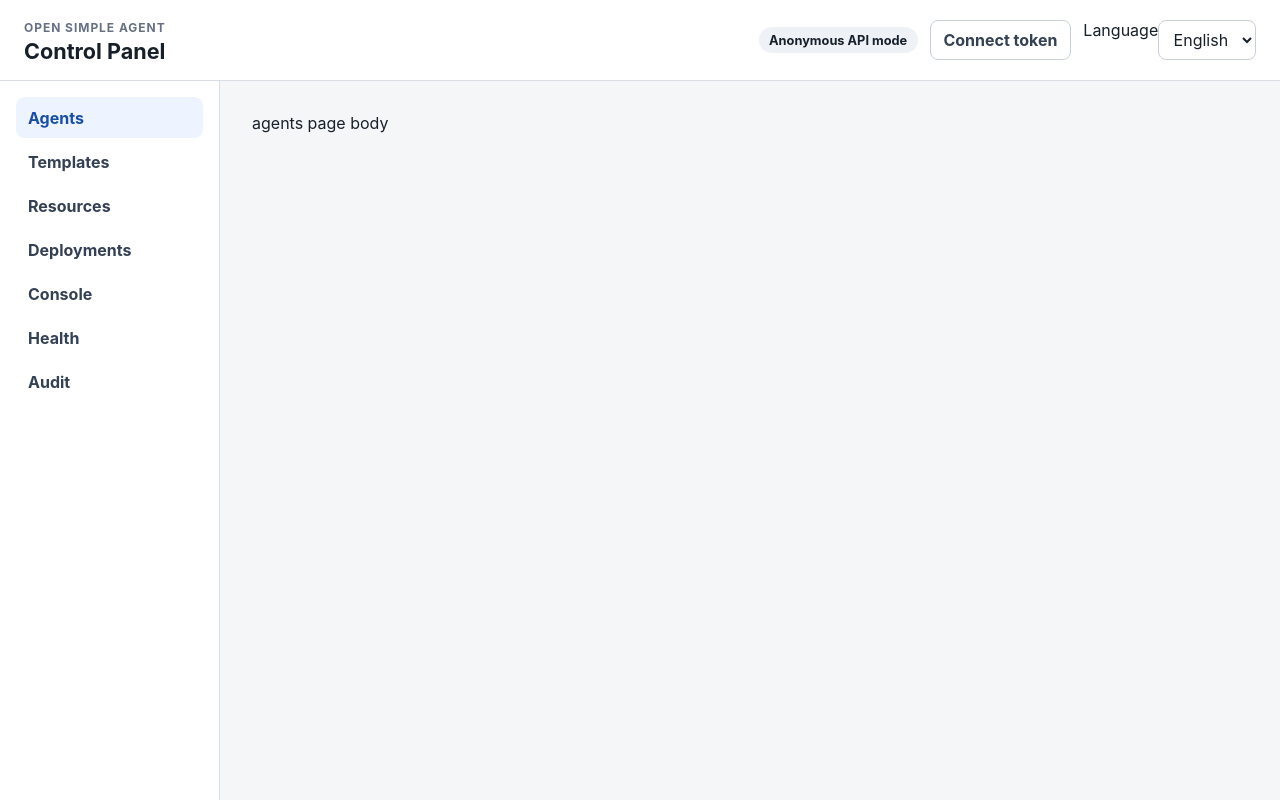
Test case: AppShell › moves focus to the main content region on route change
The width and height of the screenshot is (1280, 800).
Click the link "Health" at (54, 338), box [28,328,79,348]
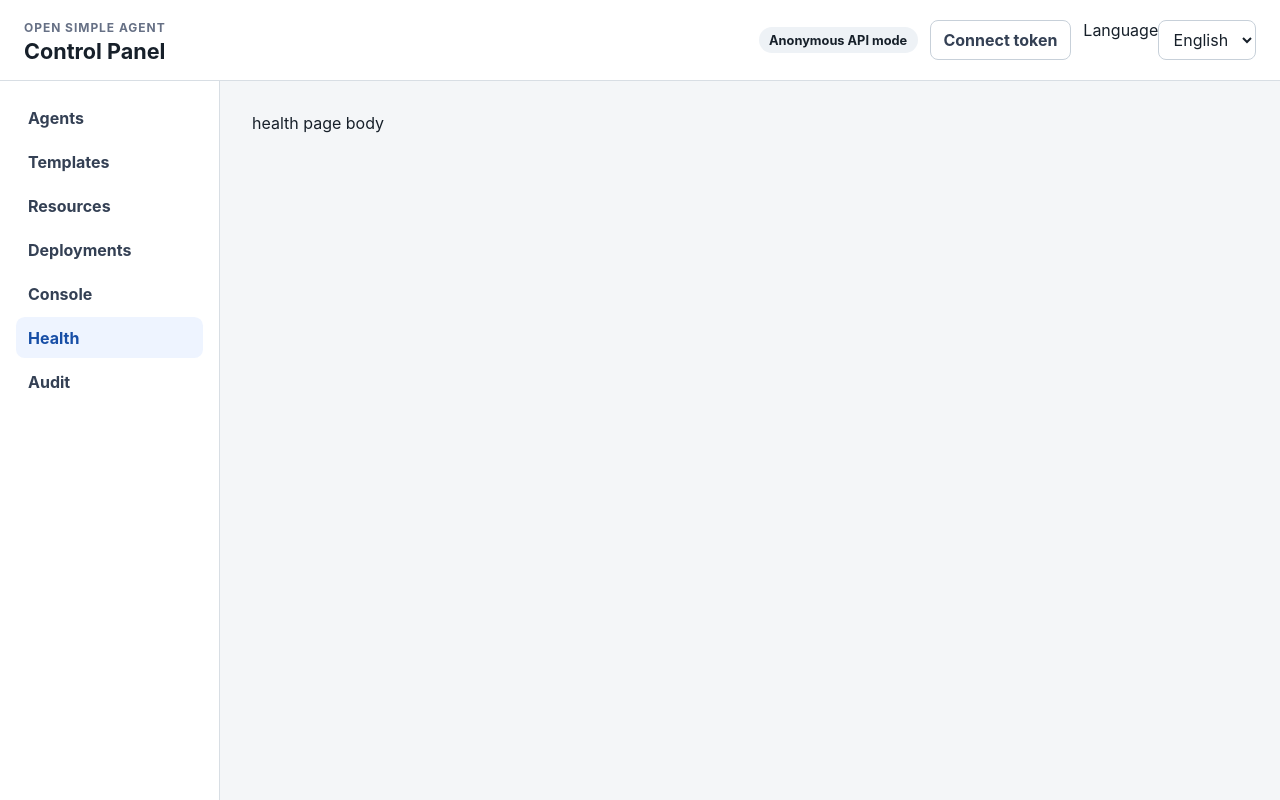
Now the text "health page body" is shown, box [252,113,384,133]
